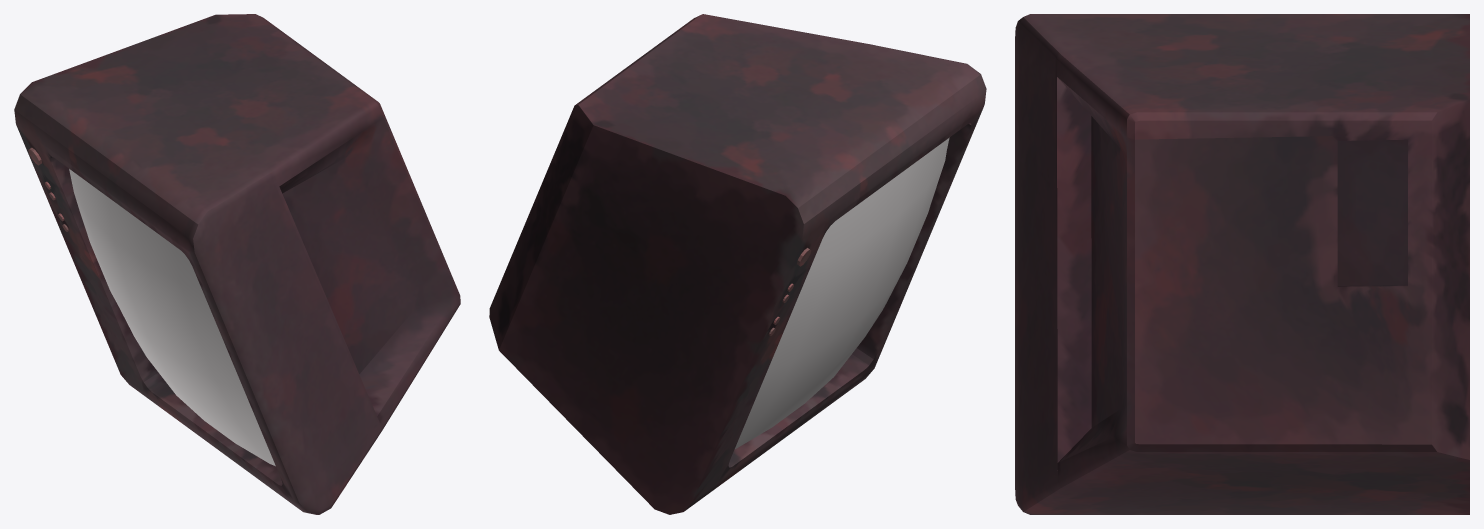
3 renders of one model, left to right at view 1: azimuth 30°, elevation 25°; view 2: azimuth 150°, elevation 25°; view 3: azimuth 270°, elevation 25°, orthographic. The views are drawn at different scales.
Visible parts, largest first — view 1: Tv.001, Tv.002; view 2: Tv.001, Tv.002; view 3: Tv.001.
Part boxes in pixels (x1,y1,x2,y2): Tv.001: (14,14,460,514); Tv.002: (69,169,275,466); Tv.001: (489,14,986,514); Tv.002: (735,137,949,448); Tv.001: (1015,14,1469,514).
Bounding box in the file's own units: 143 × 156 × 140.
